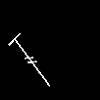treble_crochet: (8, 34, 49, 85)
